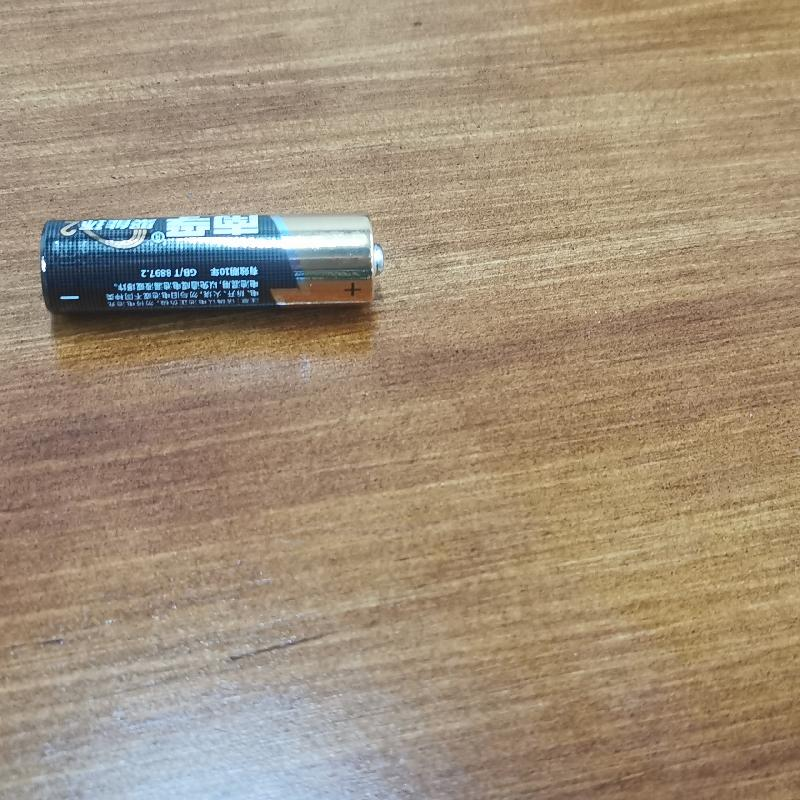battery: (40, 207, 398, 329)
